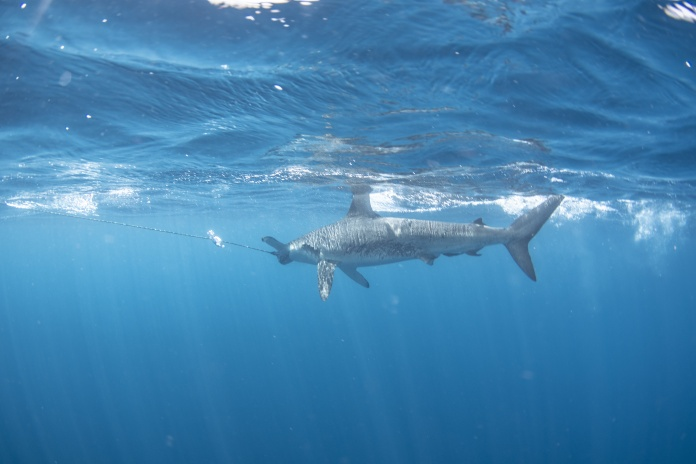Hammer: (249, 176, 583, 331)
